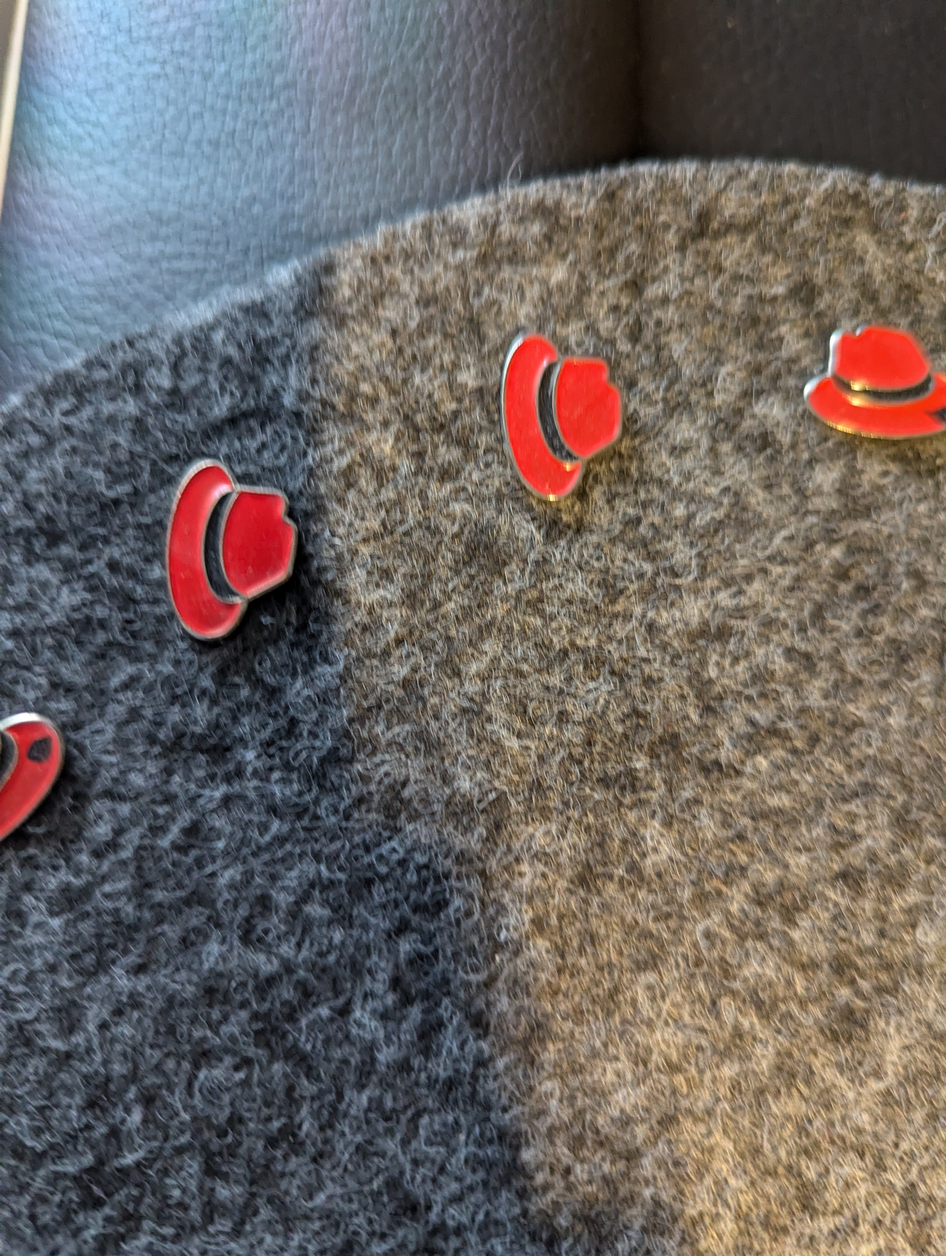Red-Hat: (140, 433, 317, 657), (481, 310, 644, 532), (782, 289, 946, 475)
Scratch: (912, 387, 946, 443)
